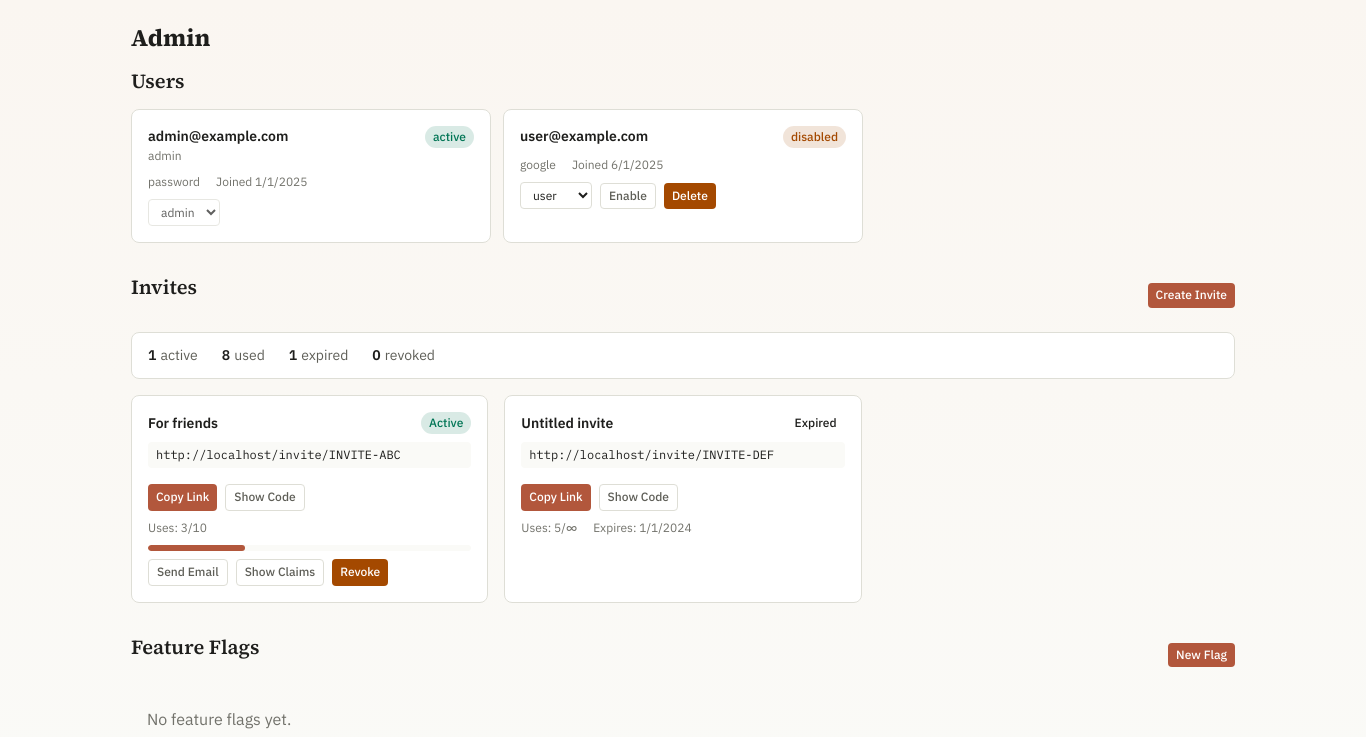
Test: Admin page › shows success card after creating an invite with email sent confirmation
Click the button "Create Invite" at (1191,296), box [1148,283,1235,308]
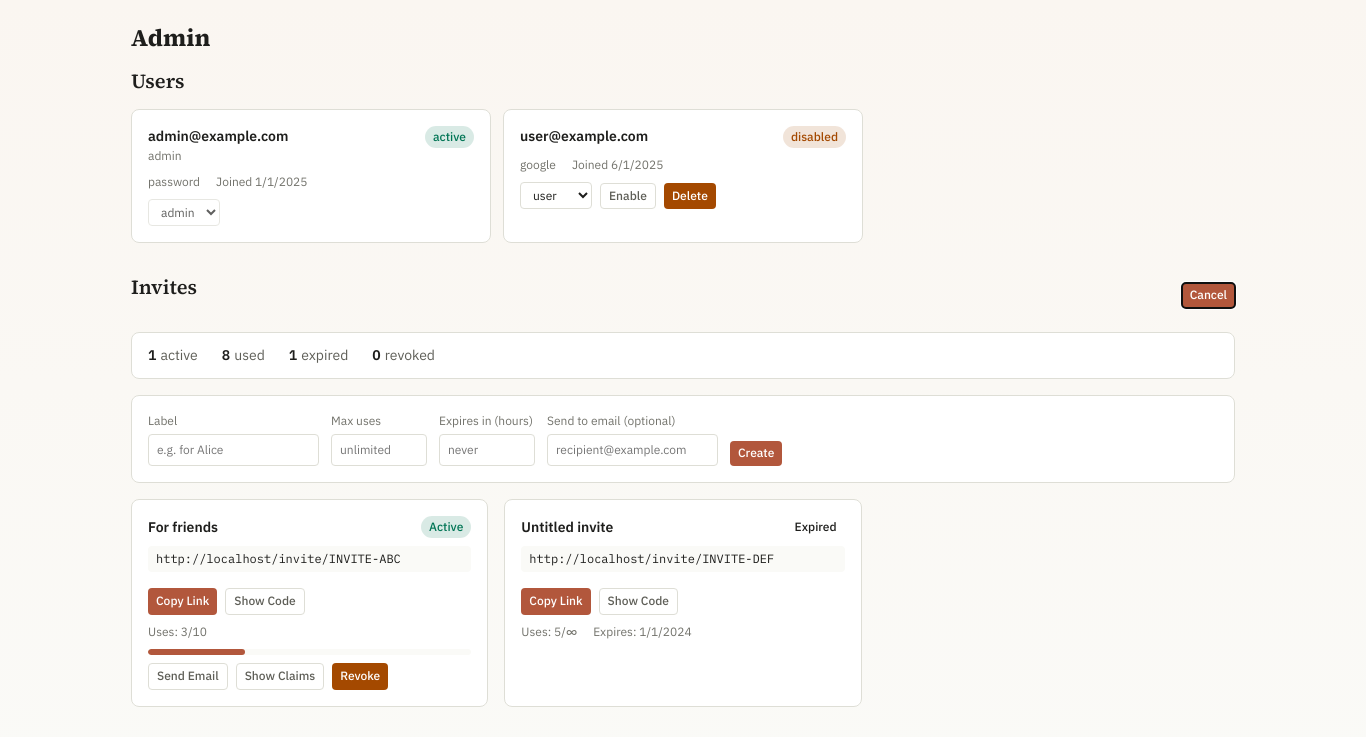
Type "alice@example.com" into the field labelled "Send to email (optional)" at (632,450), box [547,434,718,466]
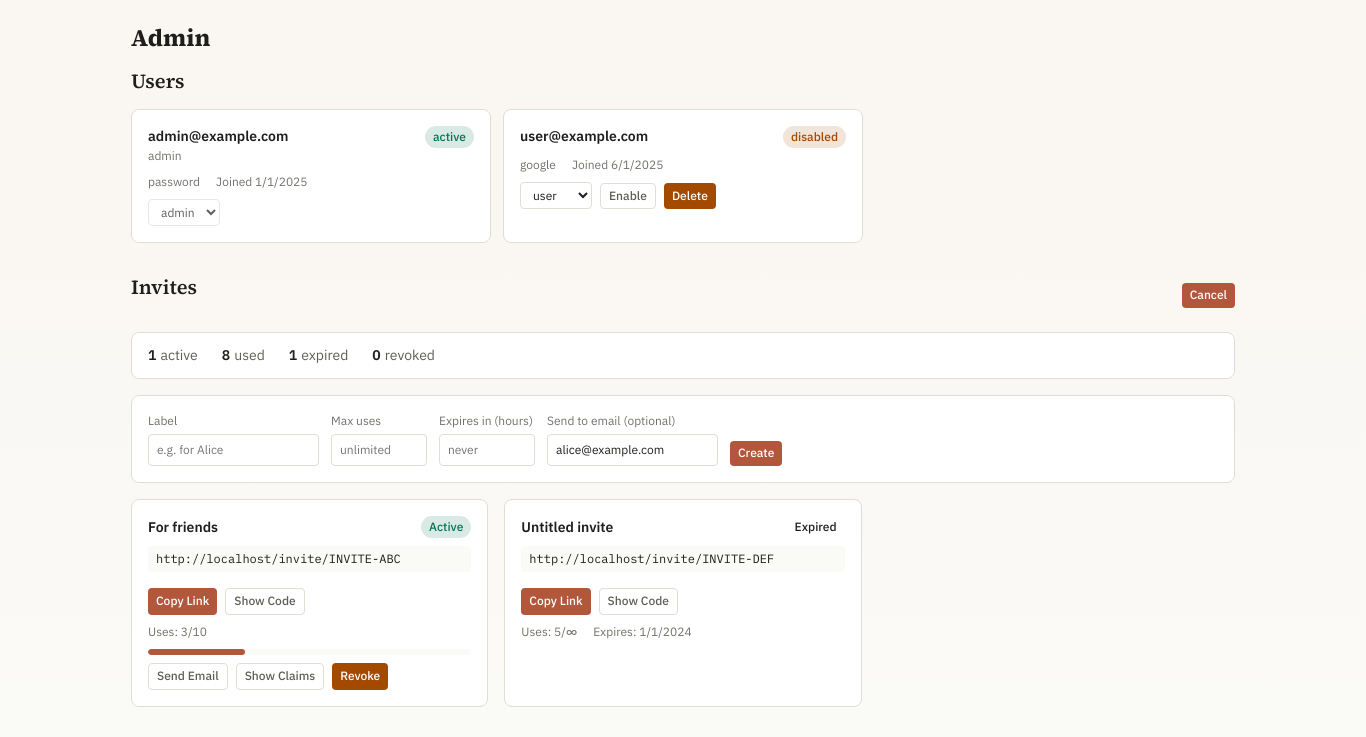
Click the button "Create" at (756,454), box [730,441,782,466]
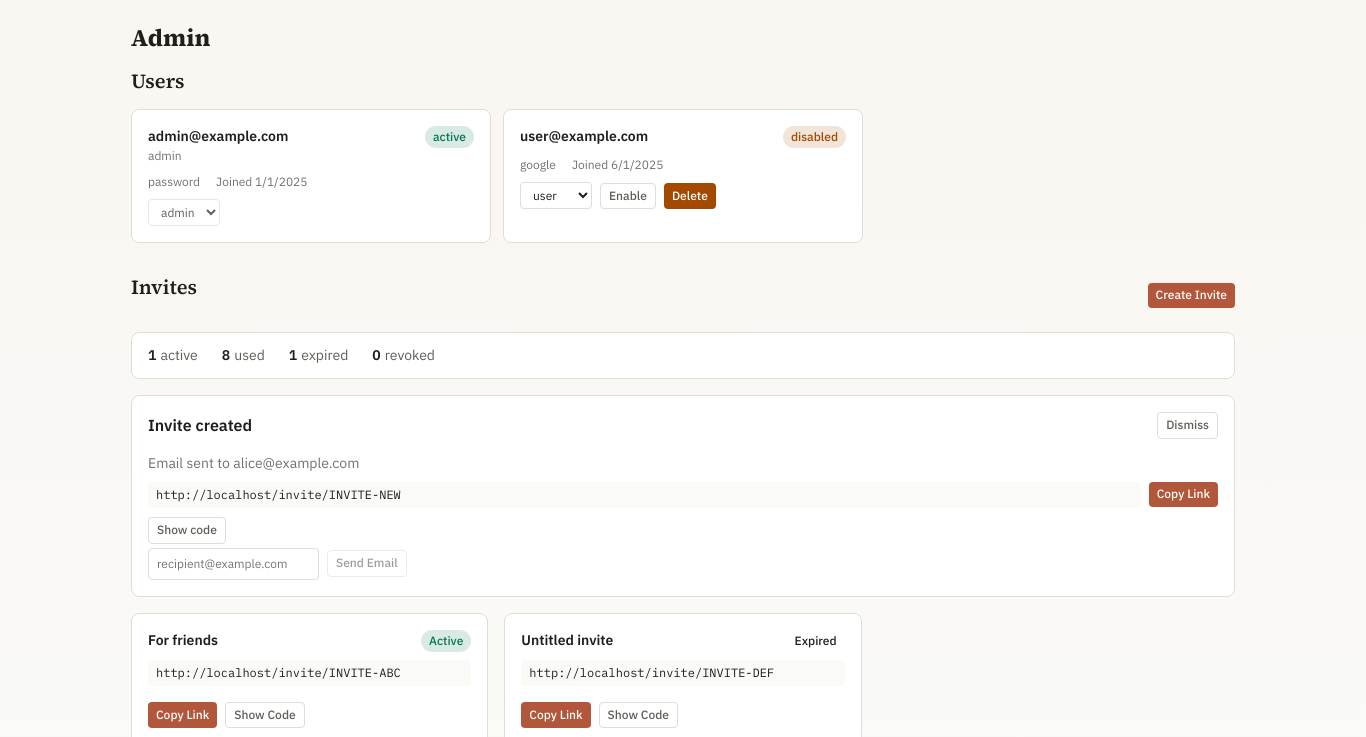
Expected: the element with test id "invite-success" is shown, [131,395,1235,597]
Expected: the text "Invite created" is shown, [148,414,252,438]
Expected: the text "Email sent to alice@example.com" is shown, [148,454,359,472]
